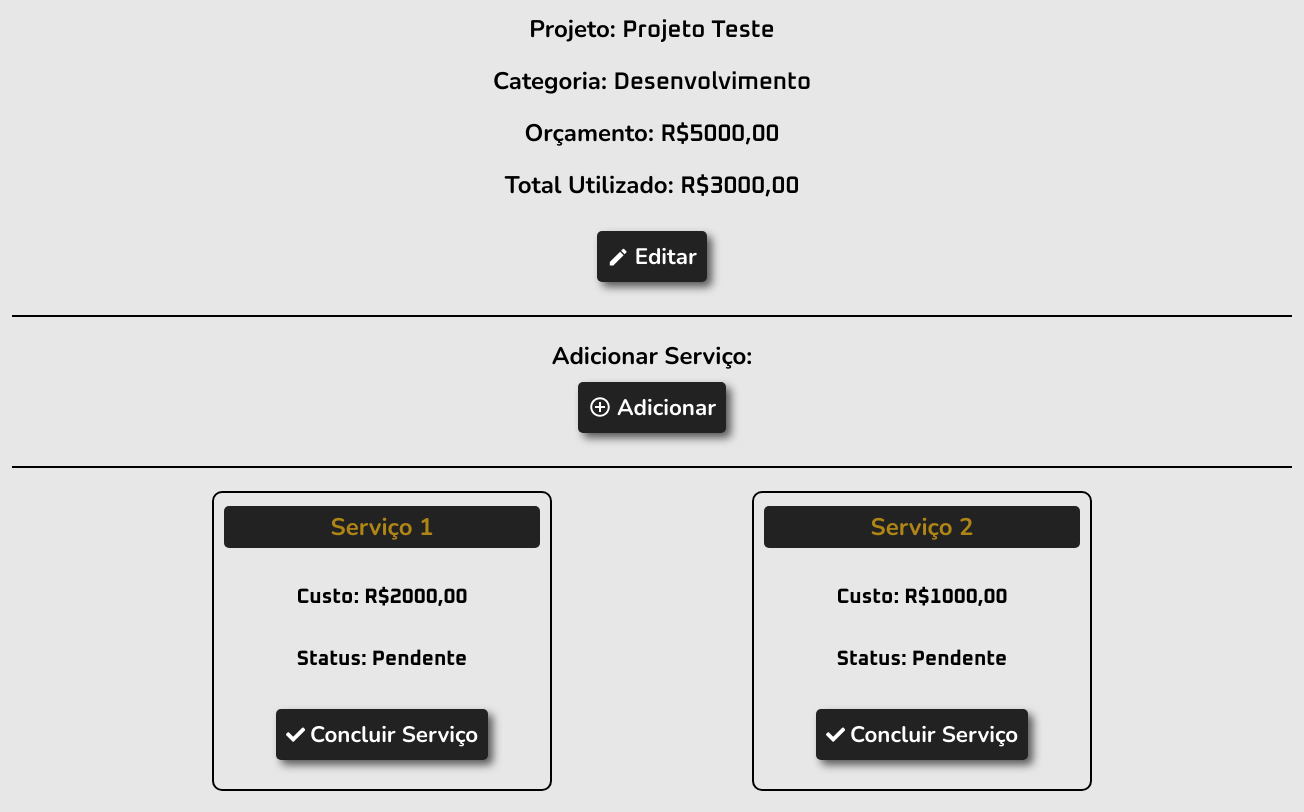
Página de Edição de Projeto - Teste de Integração › deve alternar para o formulário de edição ao clicar no botão "Editar"
Expected: the text "Projeto Teste" is shown, [622,18,775,42]
Click the button "Editar".
click(652, 257)  # box [597,231,707,282]
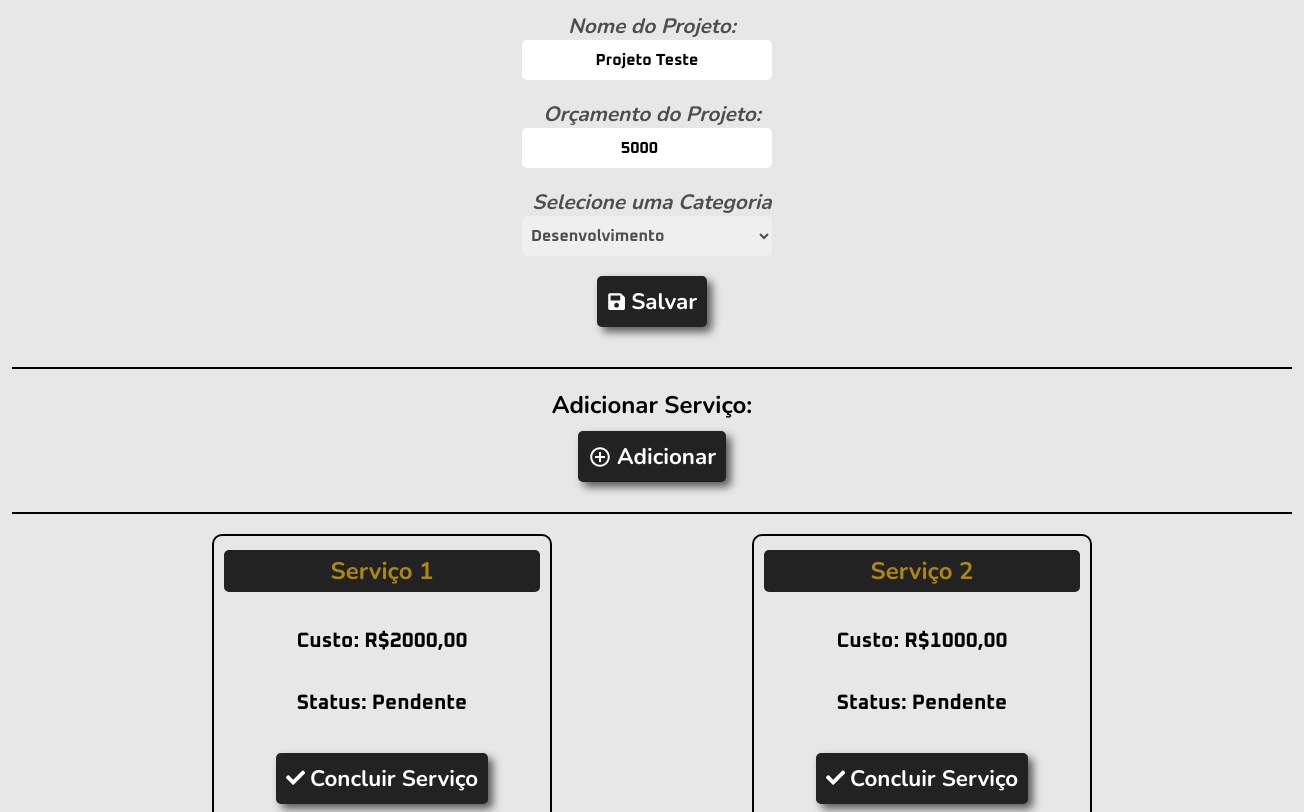
Result: the field labelled "Nome do Projeto:" is shown at [522,40,772,80]
Result: the number field labelled "Orçamento do Projeto:" is shown at [522,128,772,168]
Result: the dropdown labelled "Selecione uma Categoria" is shown at [522,216,772,256]
